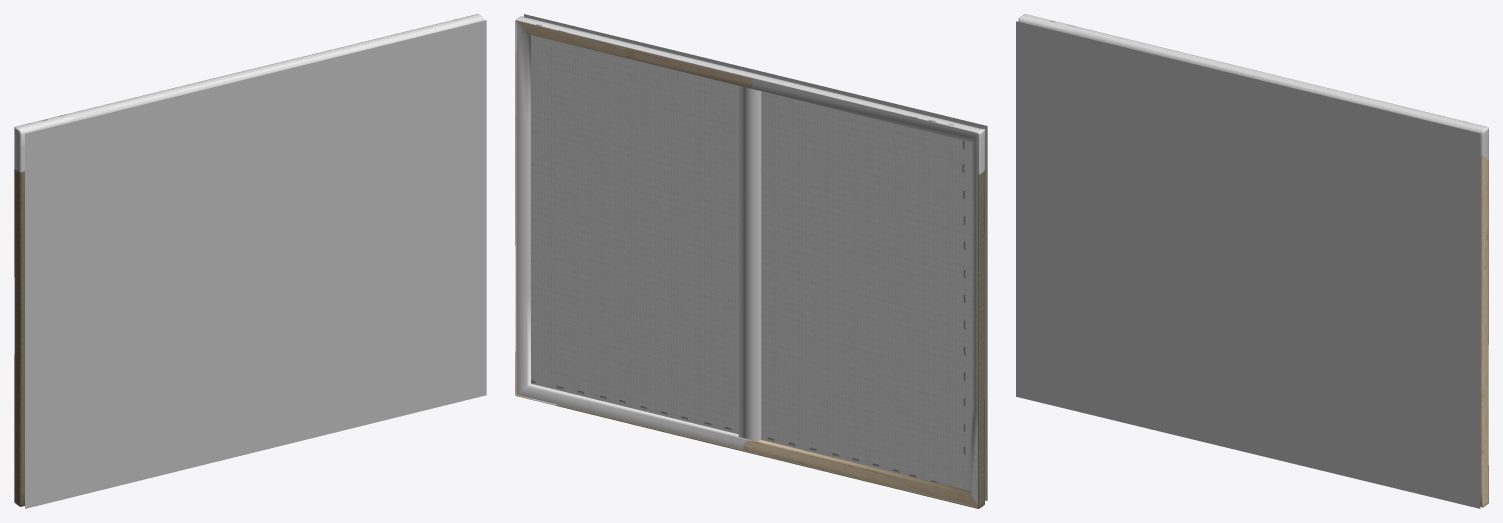
The picture shows the model from 3 angles, left to right: view 1: azimuth 30°, elevation 25°; view 2: azimuth 150°, elevation 25°; view 3: azimuth 330°, elevation 25°; orthographic projection.
Parts seen in each view (by area): view 1: Rejoice!HeWillProvide_2023_AcrlicPaint,OilPastel_24x30in_3, Object_6; view 2: Object_6, Rejoice!HeWillProvide_2023_AcrlicPaint,OilPastel_24x30in_3; view 3: Rejoice!HeWillProvide_2023_AcrlicPaint,OilPastel_24x30in_3, Object_6.
Part boxes in pixels (x1,y1,x2,y2): Rejoice!HeWillProvide_2023_AcrlicPaint,OilPastel_24x30in_3: (25,20,486,508); Object_6: (14,14,484,506); Object_6: (515,16,984,508); Rejoice!HeWillProvide_2023_AcrlicPaint,OilPastel_24x30in_3: (524,14,987,500); Rejoice!HeWillProvide_2023_AcrlicPaint,OilPastel_24x30in_3: (1016,21,1480,508); Object_6: (1018,14,1488,507).
Bounding box in the file's own units: 1.3 × 1.01 × 0.0468.
